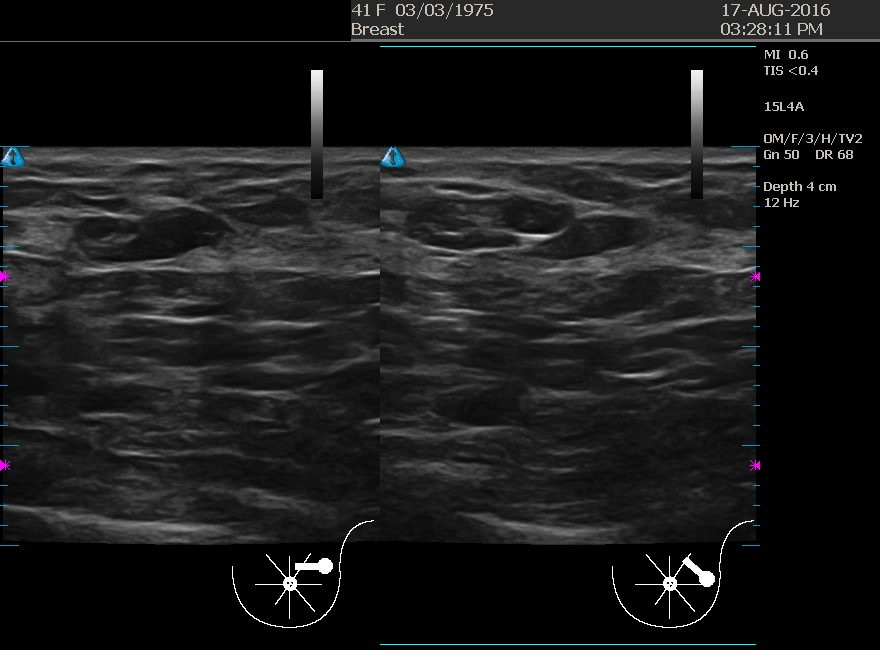BIRADS_3: (49, 155, 249, 355), (394, 183, 594, 383)
